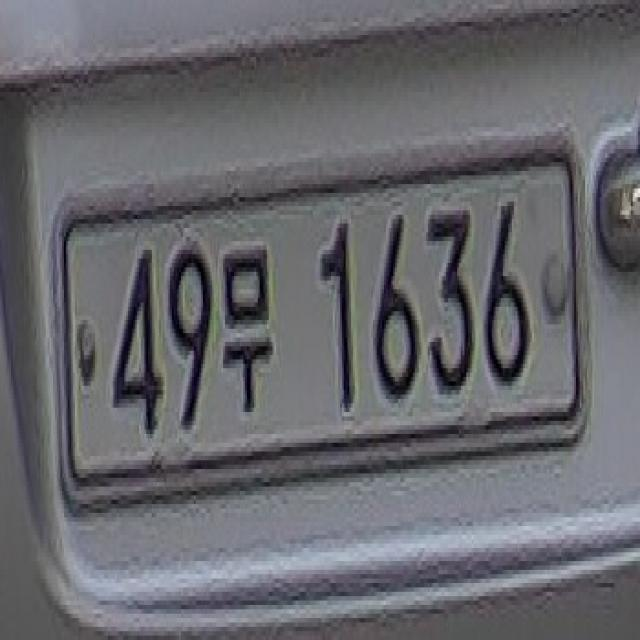1: (319, 208, 361, 422)
3: (428, 186, 476, 416)
4: (110, 235, 164, 448)
6: (482, 182, 538, 398), (371, 210, 423, 409)
9: (168, 242, 212, 440)
license_plate: (49, 86, 626, 579)
mu: (219, 227, 279, 431)
